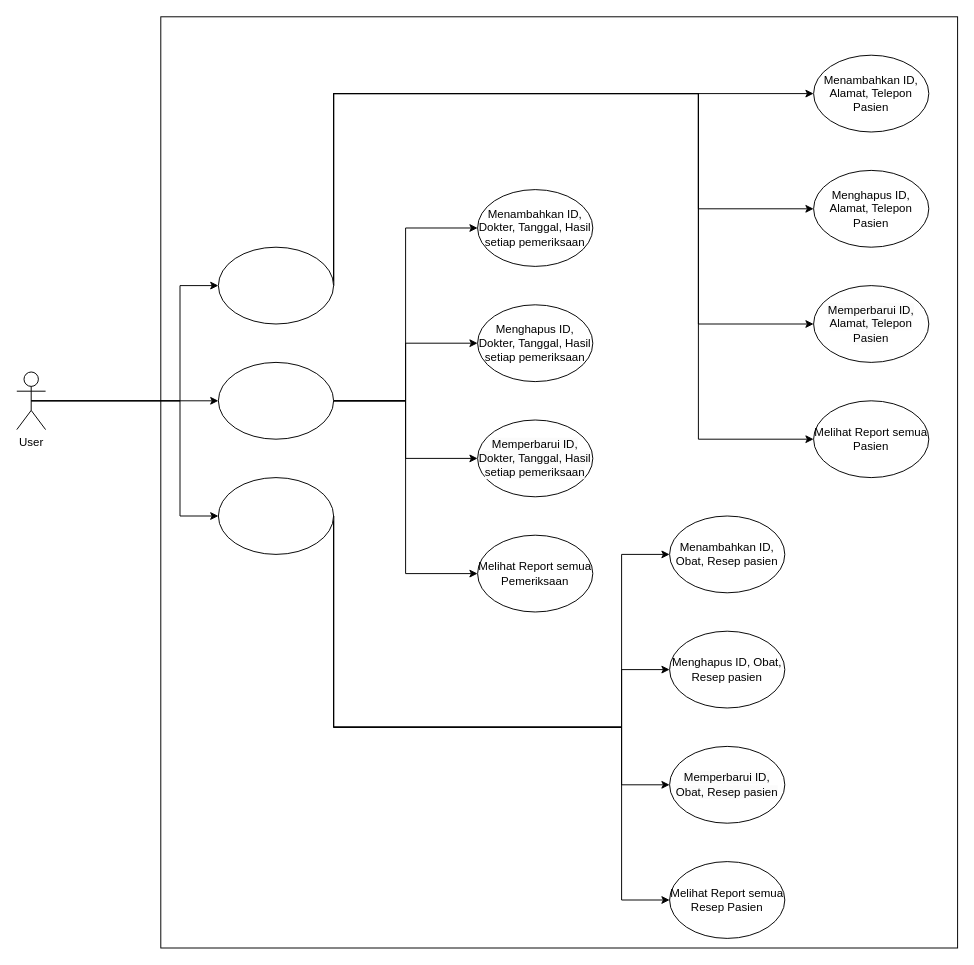
Some shapes in this 974 by 965 pixel diagram are drawn without their labels. The shapes that lost their labels are listed below. From the top down, each one's centre as x and y in pixels, then its label:
pixel 275 285: Pasien
pixel 275 400: Pemeriksaan
pixel 275 515: Resep
